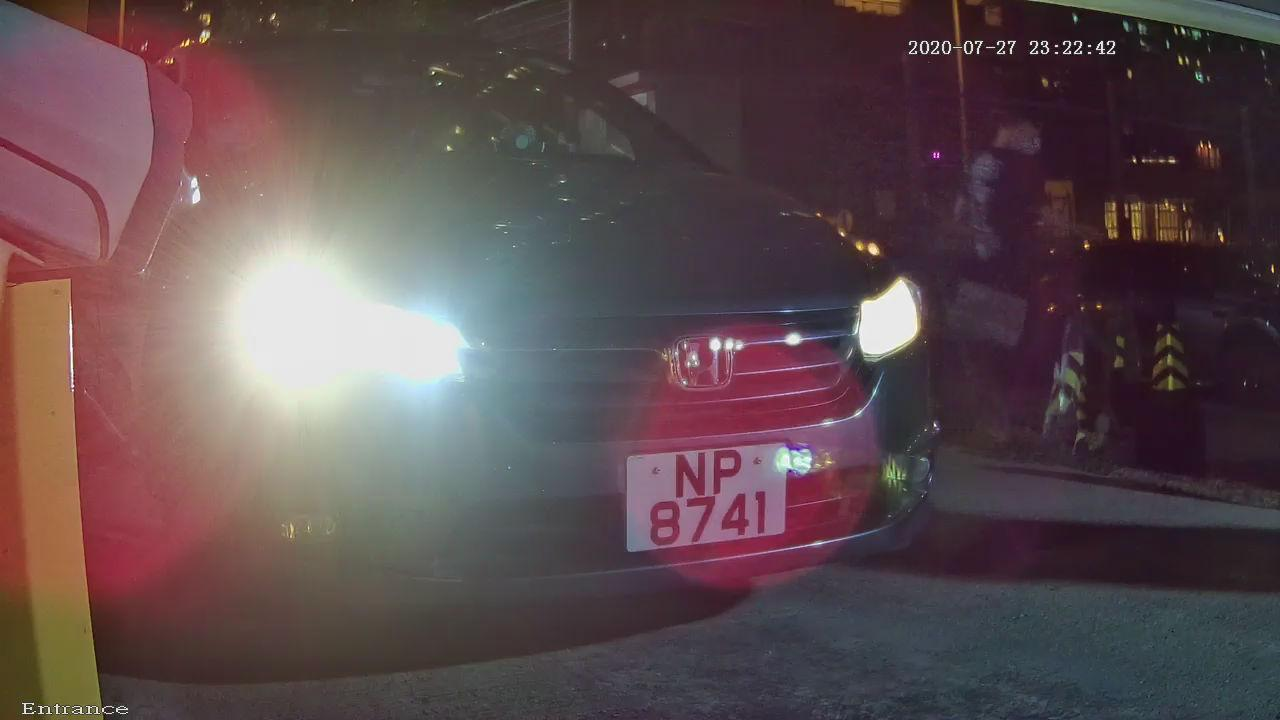privatecar: (63, 13, 1115, 704)
